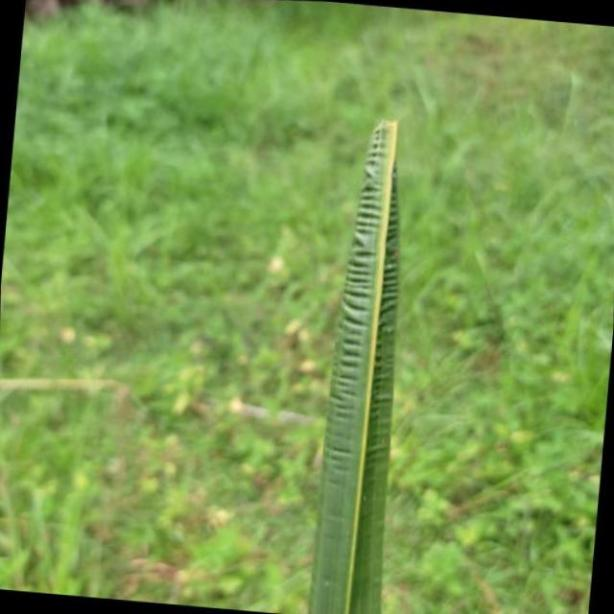Boron: (305, 113, 406, 614)
